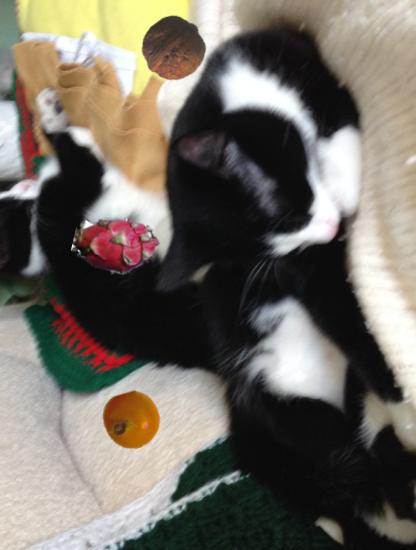Physalis: (103, 391, 161, 449)
Pitahaya: (73, 202, 160, 289)
Walnut: (141, 16, 207, 82)
